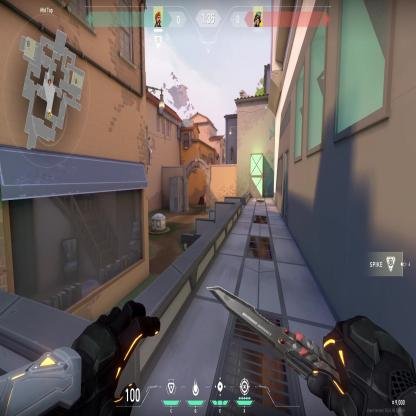enemy: (203, 193, 206, 212)
